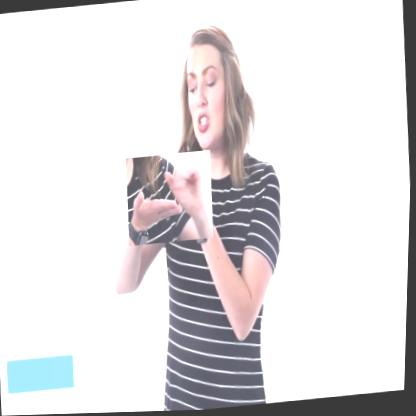ExcuseMe: (125, 151, 216, 247)
